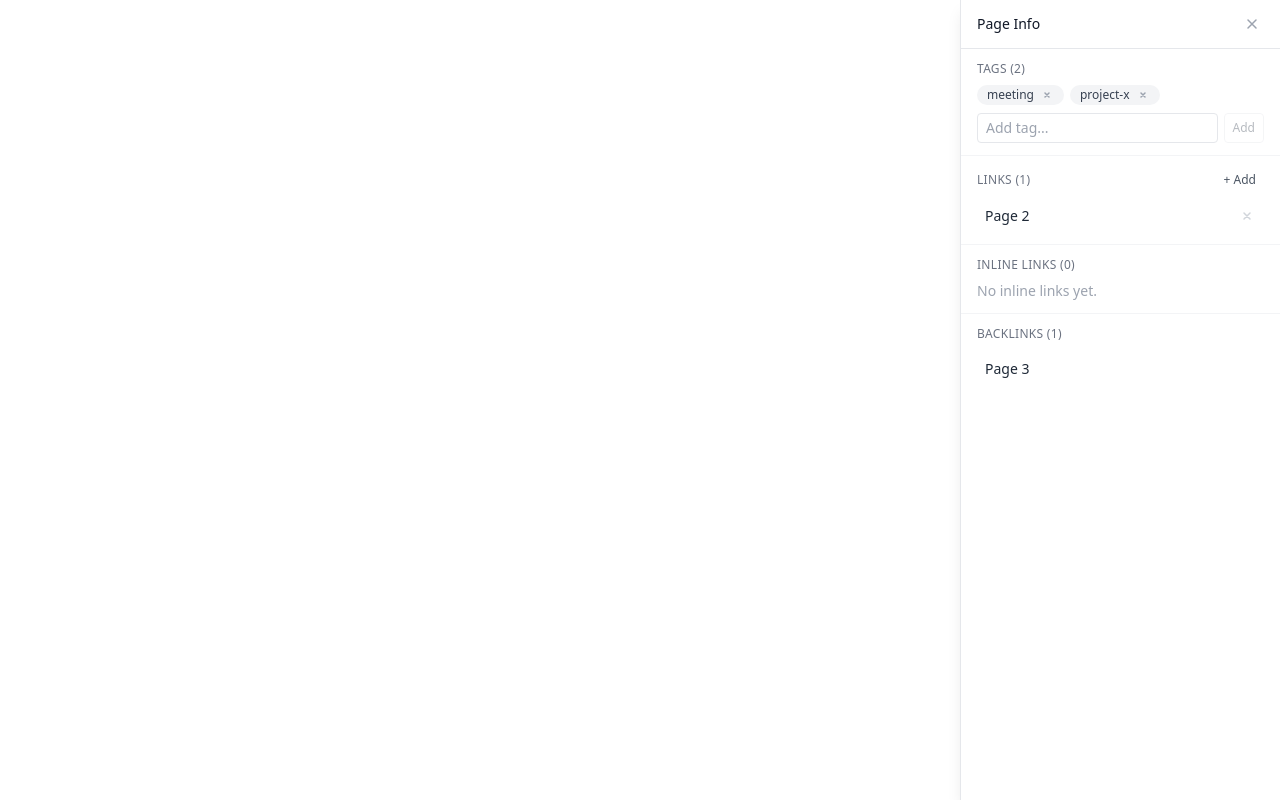
Test: PageLinksPanel › opens shared link modal when Add button is clicked
This screenshot has width=1280, height=800.
Click the button with test id "add-link-button" at (1240, 180), box x1=1216 y1=168 x2=1264 y2=192
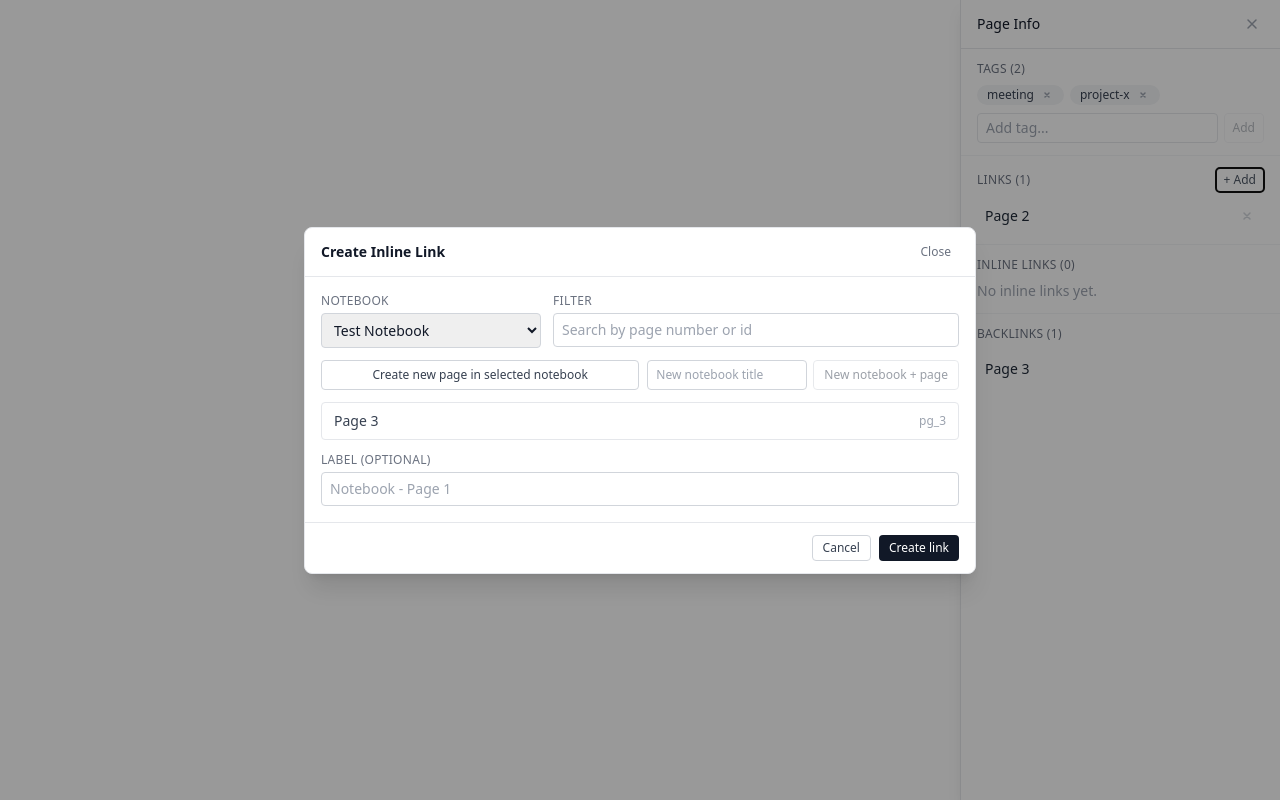
Expected: the element with test id "inline-link-editor-backdrop" is shown
